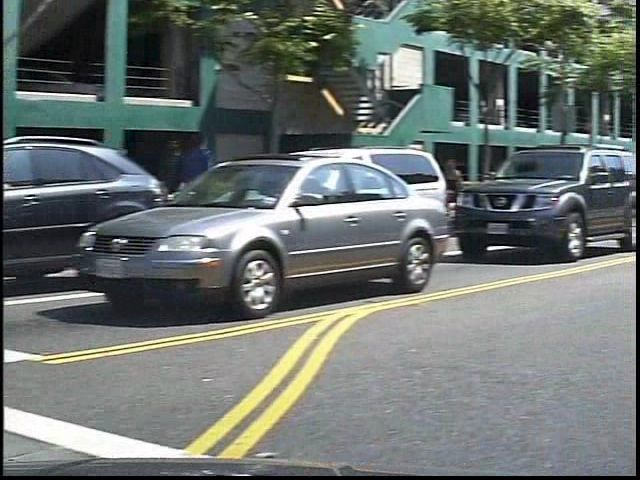person: (188, 127, 238, 245), (452, 156, 482, 230)
